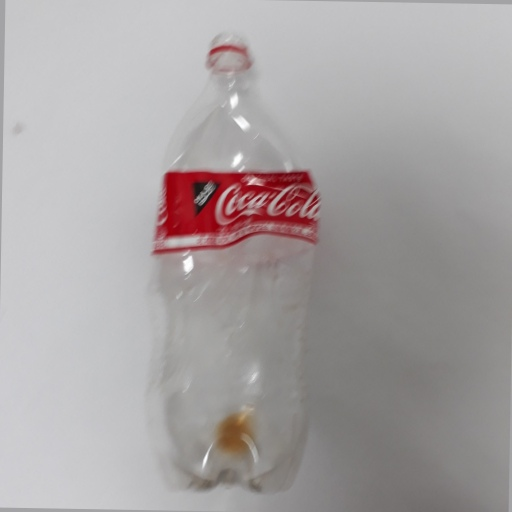Plastic_0: (145, 30, 326, 492)
